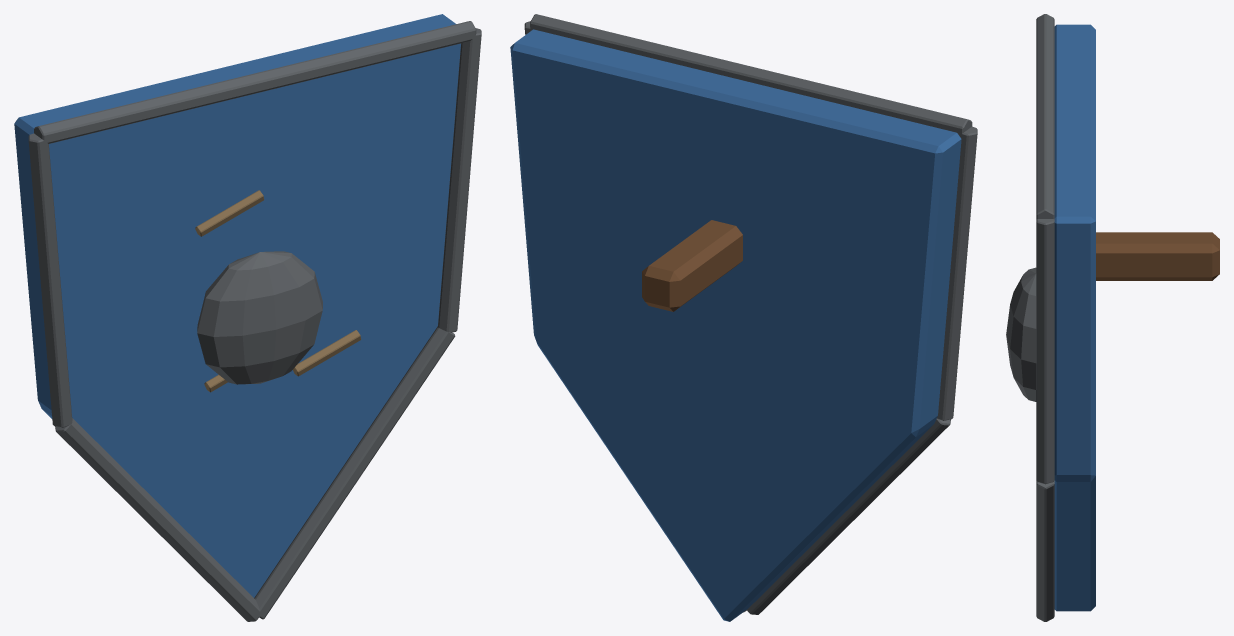
Rendered from runtime.glb.
3 views of the same model, side by side, from view 1: azimuth 30°, elevation 25°; view 2: azimuth 150°, elevation 25°; view 3: azimuth 270°, elevation 25° (orthographic). The views are drawn at different scales.
Parts seen in each view (by area): view 1: falkenwacht-wall-shield-v01_nocol; view 2: falkenwacht-wall-shield-v01_nocol; view 3: falkenwacht-wall-shield-v01_nocol.
Boxes of the visible parts, <box> form: falkenwacht-wall-shield-v01_nocol: <box>14,14,481,621</box>; falkenwacht-wall-shield-v01_nocol: <box>510,14,977,621</box>; falkenwacht-wall-shield-v01_nocol: <box>1006,14,1219,621</box>.
Bounding box in the file's own units: 1.29 × 1.49 × 0.57.
